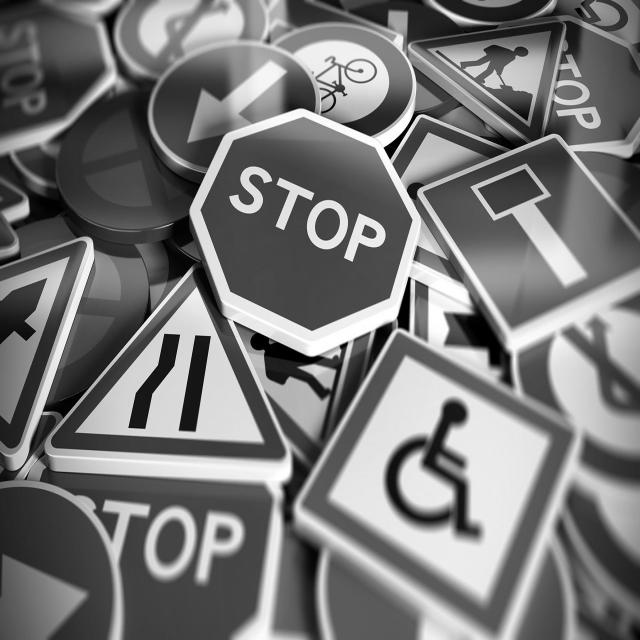danger: (44, 262, 294, 484)
direction_obligation: (152, 44, 316, 165)
forbidden: (59, 82, 207, 247)
indication: (298, 330, 579, 634), (422, 113, 640, 346)
let_go: (185, 107, 421, 356), (31, 468, 279, 638)
